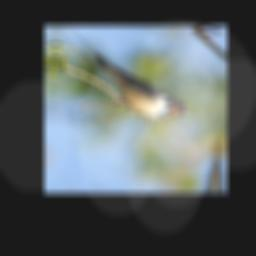Swallow: (57, 31, 195, 118)
